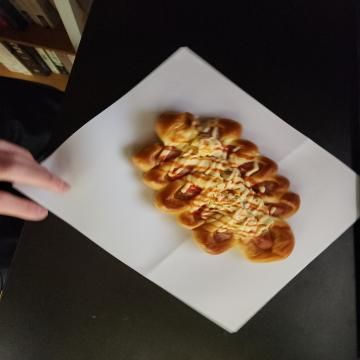pizza_bread: (110, 61, 265, 224)
